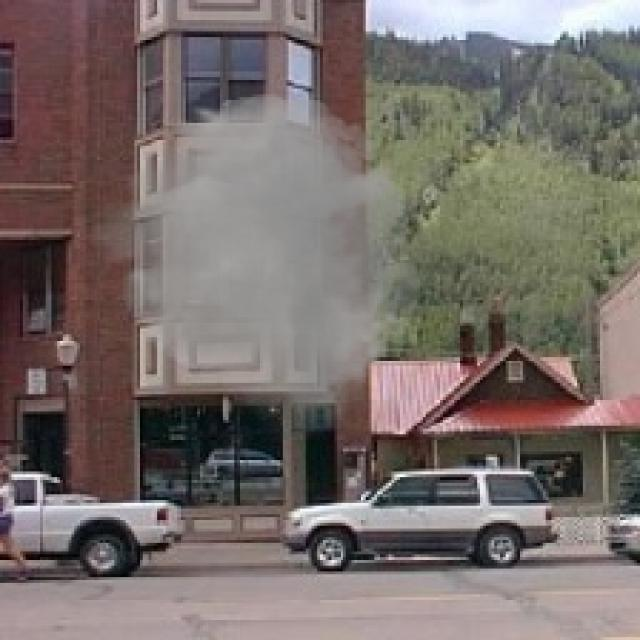Smoke: (80, 86, 437, 440)
